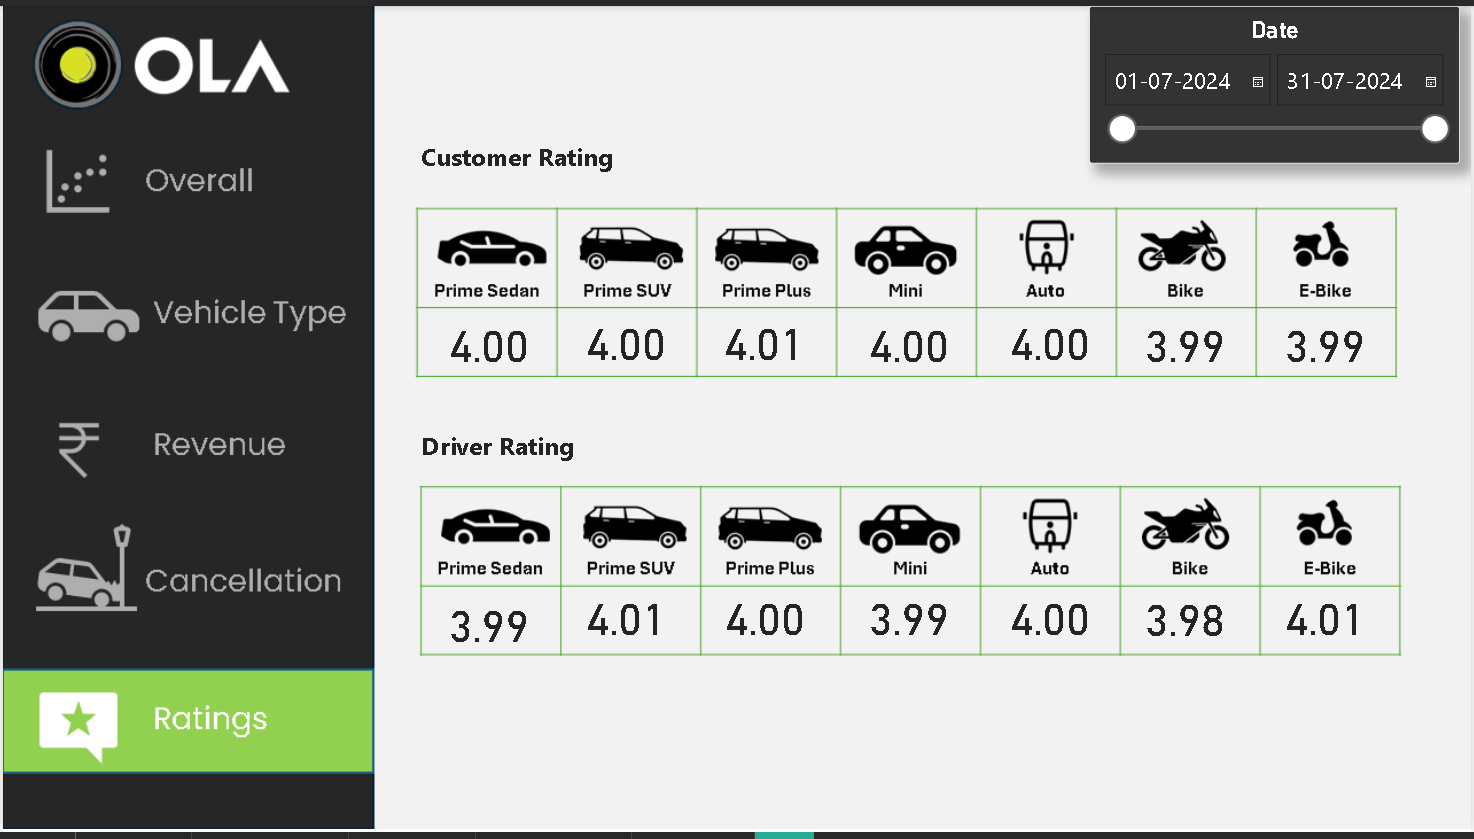

This screenshot's page, from the dashboard's own definition file:
{"tool":"powerbi","page":{"name":"Ratings","canvas":[1280,720],"ordinal":4},"visuals":[{"type":"actionButton","box":[0,224.5,324.3,86.6],"z":0},{"type":"actionButton","box":[1.5,341.9,324.3,86.6],"z":1000},{"type":"actionButton","box":[0,110.1,324.3,86.6],"z":2000},{"type":"actionButton","box":[1.5,444.6,324.3,92.4],"z":3000},{"type":"card","title":"Cancelled Bookings","fields":{"Values":["Avg(July.customer_rating)"]},"box":[379.7,267.2,89.1,51.6],"z":4000},{"type":"card","title":"Cancelled Bookings","fields":{"Values":["Avg(July.driver_ratings)"]},"box":[379.7,510.9,89.1,51.6],"z":5000},{"type":"card","title":"Cancelled Bookings","fields":{"Values":["Avg(July.customer_rating)"]},"box":[1107.8,267.2,89.1,51.6],"z":6000},{"type":"card","title":"Cancelled Bookings","fields":{"Values":["Avg(July.customer_rating)"]},"box":[985.9,267.2,89.1,51.6],"z":7000},{"type":"card","title":"Cancelled Bookings","fields":{"Values":["Avg(July.customer_rating)"]},"box":[868.8,265.6,89.1,51.6],"z":8000},{"type":"card","title":"Cancelled Bookings","fields":{"Values":["Avg(July.customer_rating)"]},"box":[745.3,267.2,89.1,51.6],"z":9000},{"type":"card","title":"Cancelled Bookings","fields":{"Values":["Avg(July.customer_rating)"]},"box":[618.8,265.6,89.1,51.6],"z":10000},{"type":"card","title":"Cancelled Bookings","fields":{"Values":["Avg(July.customer_rating)"]},"box":[498.4,265.6,89.1,51.6],"z":11000},{"type":"card","title":"Cancelled Bookings","fields":{"Values":["Avg(July.driver_ratings)"]},"box":[1107.8,504.7,89.1,51.6],"z":12000},{"type":"card","title":"Cancelled Bookings","fields":{"Values":["Avg(July.driver_ratings)"]},"box":[985.9,506.2,89.1,51.6],"z":13000},{"type":"card","title":"Cancelled Bookings","fields":{"Values":["Avg(July.driver_ratings)"]},"box":[868.8,504.7,89.1,51.6],"z":14000},{"type":"card","title":"Cancelled Bookings","fields":{"Values":["Avg(July.driver_ratings)"]},"box":[745.3,504.7,89.1,51.6],"z":15000},{"type":"card","title":"Cancelled Bookings","fields":{"Values":["Avg(July.driver_ratings)"]},"box":[620.3,504.7,89.1,51.6],"z":16000},{"type":"card","title":"Cancelled Bookings","fields":{"Values":["Avg(July.driver_ratings)"]},"box":[498.4,504.7,89.1,51.6],"z":17000},{"type":"textbox","box":[359.4,109.4,184.4,45.3],"z":18000},{"type":"textbox","box":[359.4,362.5,184.4,45.3],"z":19000},{"type":"slicer","title":"Date","fields":{"Values":["Bookings-100000-Rows.booking_date"]},"box":[946.9,0,323.4,137.5],"z":19001}]}

Visuals, with their boxes on the page's 1280x720 design canvas (x1, y1, x2, y2). These are canvas units, not pixel positions in the 1474x839 screenshot, which may show the page scaled, cropped or inside an application window:
actionButton: BBox(0, 224, 324, 311)
actionButton: BBox(2, 342, 326, 428)
actionButton: BBox(0, 110, 324, 197)
actionButton: BBox(2, 445, 326, 537)
"Cancelled Bookings" card: BBox(380, 267, 469, 319)
"Cancelled Bookings" card: BBox(380, 511, 469, 562)
"Cancelled Bookings" card: BBox(1108, 267, 1197, 319)
"Cancelled Bookings" card: BBox(986, 267, 1075, 319)
"Cancelled Bookings" card: BBox(869, 266, 958, 317)
"Cancelled Bookings" card: BBox(745, 267, 834, 319)
"Cancelled Bookings" card: BBox(619, 266, 708, 317)
"Cancelled Bookings" card: BBox(498, 266, 588, 317)
"Cancelled Bookings" card: BBox(1108, 505, 1197, 556)
"Cancelled Bookings" card: BBox(986, 506, 1075, 558)
"Cancelled Bookings" card: BBox(869, 505, 958, 556)
"Cancelled Bookings" card: BBox(745, 505, 834, 556)
"Cancelled Bookings" card: BBox(620, 505, 709, 556)
"Cancelled Bookings" card: BBox(498, 505, 588, 556)
textbox: BBox(359, 109, 544, 155)
textbox: BBox(359, 362, 544, 408)
"Date" slicer: BBox(947, 0, 1270, 138)
